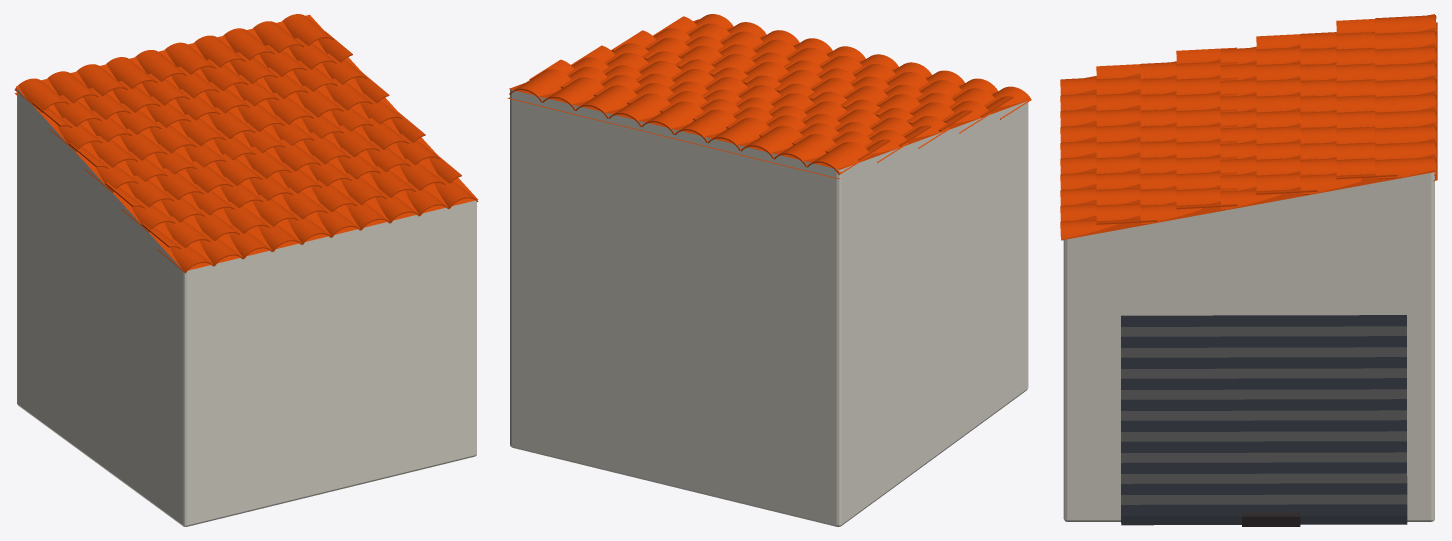
File: loja.fbx
3 views of the same model, side by side, from view 1: azimuth 30°, elevation 25°; view 2: azimuth 150°, elevation 25°; view 3: azimuth 270°, elevation 25° (orthographic). The views are drawn at different scales.
Visible parts, largest first — view 1: casa-5; view 2: casa-5; view 3: casa-5.
Part boxes in pixels (x1=…): casa-5: x1=14, y1=14, x2=478, y2=526; casa-5: x1=507, y1=14, x2=1031, y2=526; casa-5: x1=1060, y1=14, x2=1437, y2=526.
Bounding box in the file's own units: 248 × 251 × 241.
